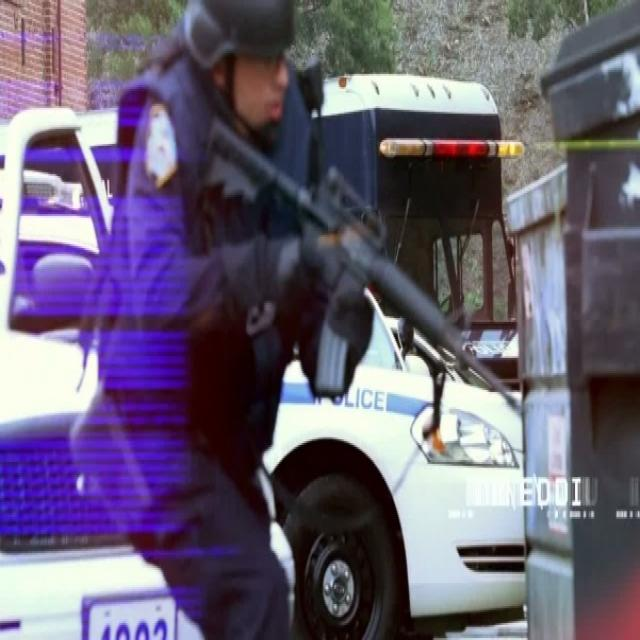rifle: (192, 118, 517, 411)
